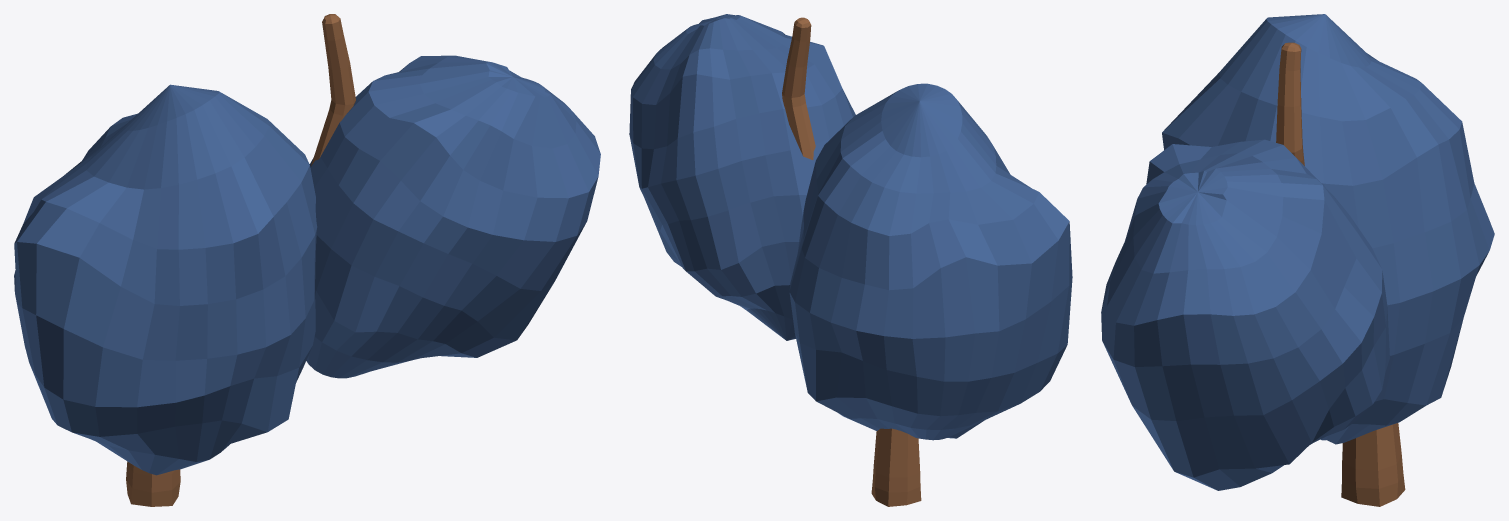
The model's file is tree-winter-complete-12-004.glb.
The picture shows the model from 3 angles, left to right: view 1: azimuth 30°, elevation 25°; view 2: azimuth 150°, elevation 25°; view 3: azimuth 270°, elevation 25°; orthographic projection. The views are drawn at different scales.
Parts seen in each view (by area): view 1: TREE 12.005_189, TREE 12.004_190; view 2: TREE 12.005_189, TREE 12.004_190; view 3: TREE 12.005_189, TREE 12.004_190.
Boxes of the visible parts, bbox=[...] form: TREE 12.005_189: bbox=[14, 55, 600, 475]; TREE 12.004_190: bbox=[126, 14, 355, 506]; TREE 12.005_189: bbox=[629, 14, 1072, 440]; TREE 12.004_190: bbox=[782, 17, 921, 506]; TREE 12.005_189: bbox=[1101, 14, 1494, 490]; TREE 12.004_190: bbox=[1276, 42, 1405, 506].
Size of the model in its own units: 1.4 by 1.23 by 0.828.
